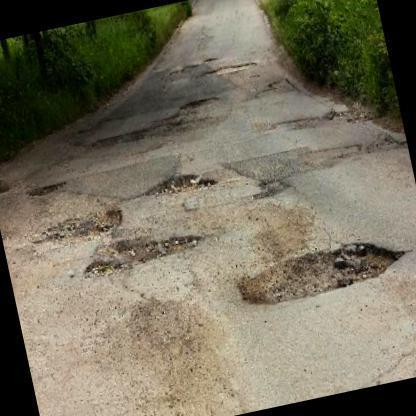pothole: (235, 236, 409, 308), (82, 233, 198, 276), (48, 206, 126, 244), (93, 121, 177, 154), (147, 170, 220, 198), (203, 61, 258, 77), (28, 178, 68, 198), (262, 176, 292, 202), (183, 96, 214, 112)
